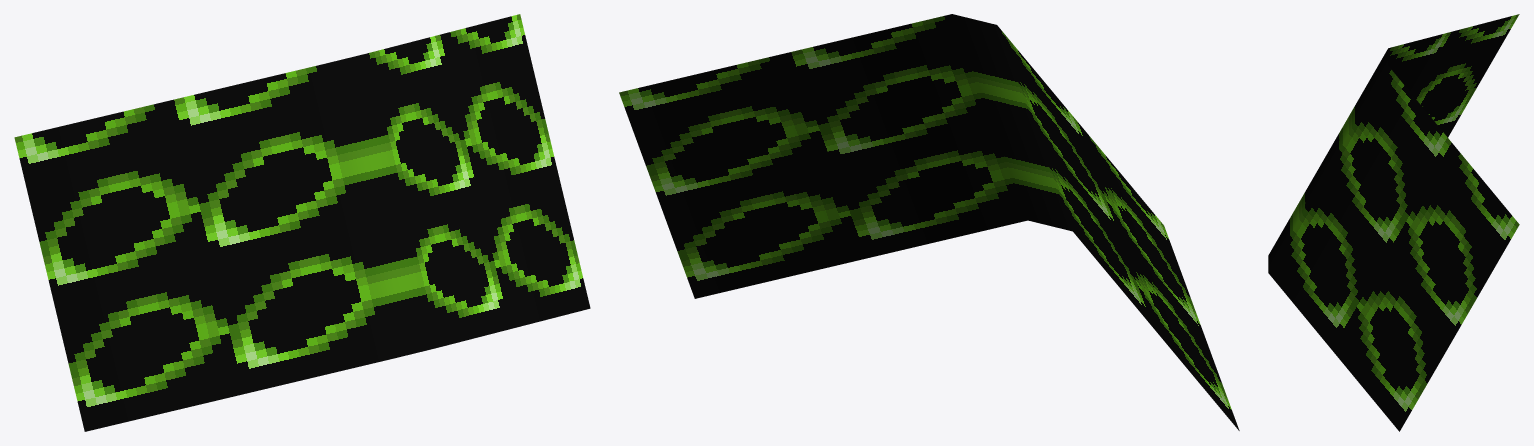
Rendered from 5782head104_c.gltf.
3 renders of one model, left to right at view 1: azimuth 30°, elevation 25°; view 2: azimuth 150°, elevation 25°; view 3: azimuth 270°, elevation 25°, orthographic. The views are drawn at different scales.
Parts seen in each view (by area): view 1: 5782head104_c; view 2: 5782head104_c; view 3: 5782head104_c.
Part boxes in pixels (<box>): 5782head104_c: <box>14,14,590,431</box>; 5782head104_c: <box>619,14,1239,430</box>; 5782head104_c: <box>1268,14,1519,431</box>.
Bounding box in the file's own units: 0.6523 × 0.3896 × 0.3291.
1 material, 1 textured.
